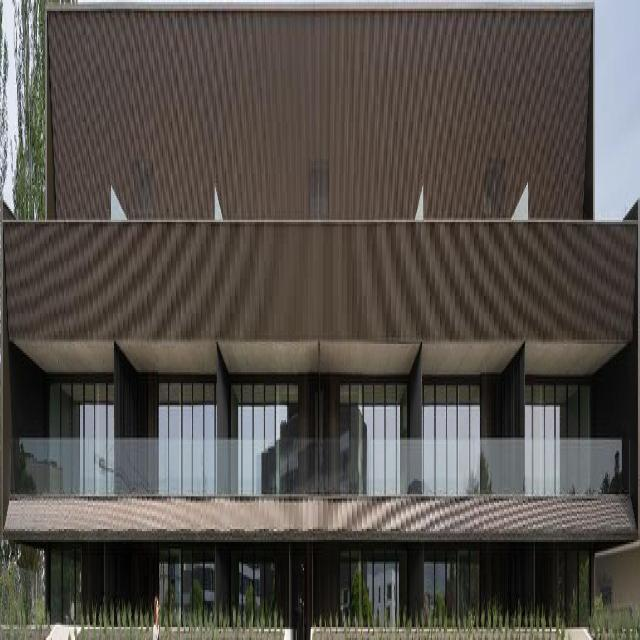door: (236, 551, 306, 633), (339, 549, 401, 619), (424, 546, 480, 623), (160, 543, 216, 616), (47, 544, 82, 620), (560, 546, 591, 622)
railing: (13, 425, 631, 493)
window: (340, 379, 408, 494), (232, 383, 299, 495), (52, 374, 114, 495), (526, 381, 590, 496), (160, 380, 217, 499), (423, 382, 481, 495)
